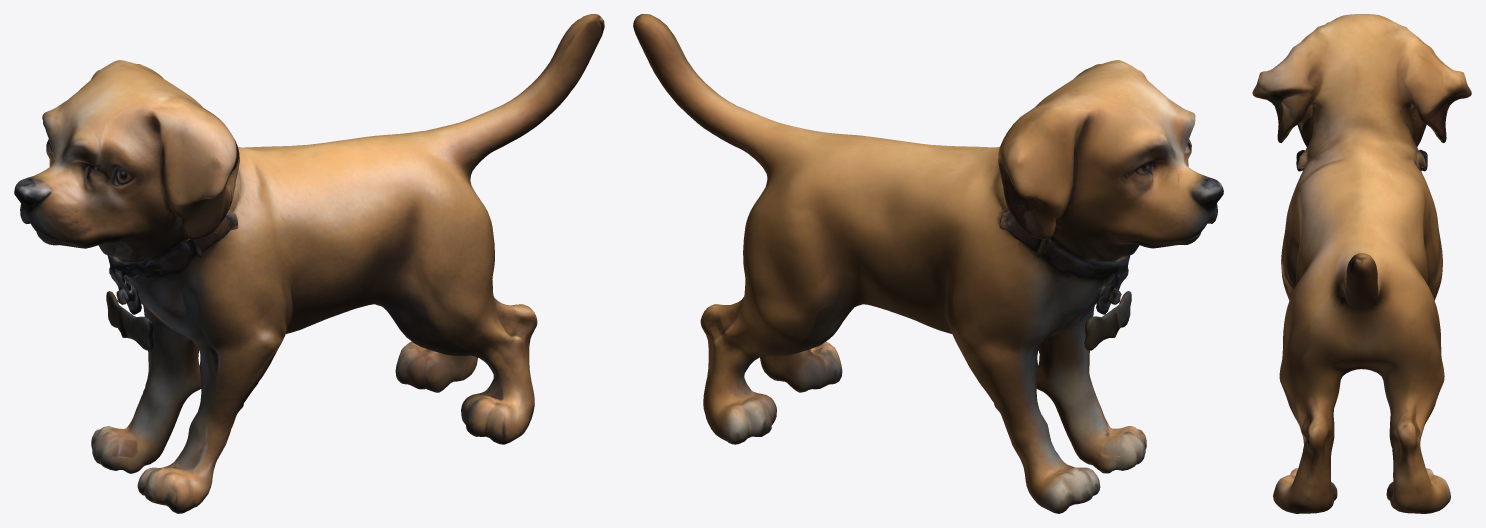
3 renders of one model, left to right at view 1: azimuth 30°, elevation 25°; view 2: azimuth 150°, elevation 25°; view 3: azimuth 270°, elevation 25°, orthographic. The views are drawn at different scales.
Bounding box in the file's own units: 2 × 1.34 × 0.765.
1 material, 1 textured.
